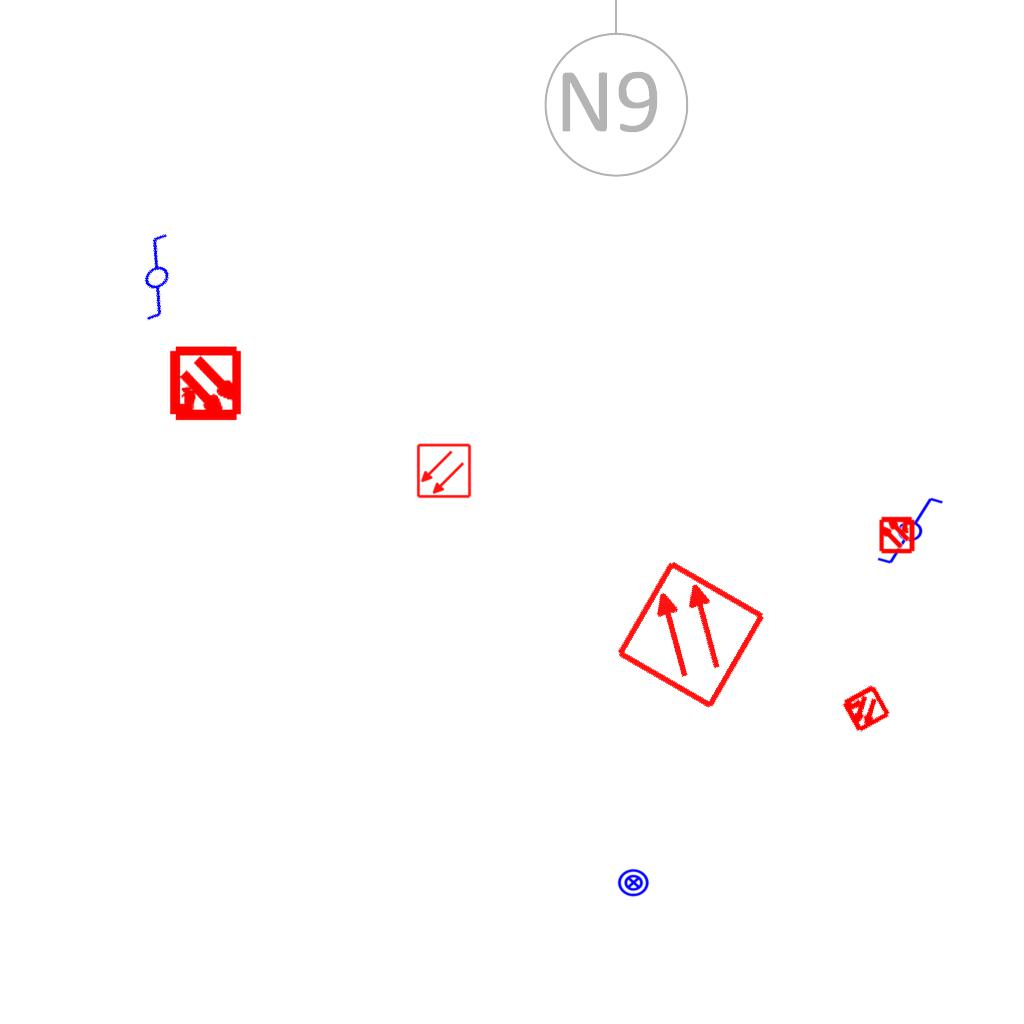OT_Multisensormelder_(Kombination_RMO_WMD): (149, 329, 262, 442), (826, 670, 904, 748), (869, 506, 925, 562)
RMO_Rauchmelder_optischer: (613, 557, 768, 712), (416, 443, 472, 499)
Taster_beleuchtet: (617, 866, 650, 899)
Wechselschalter: (100, 226, 206, 332), (867, 494, 945, 566)
